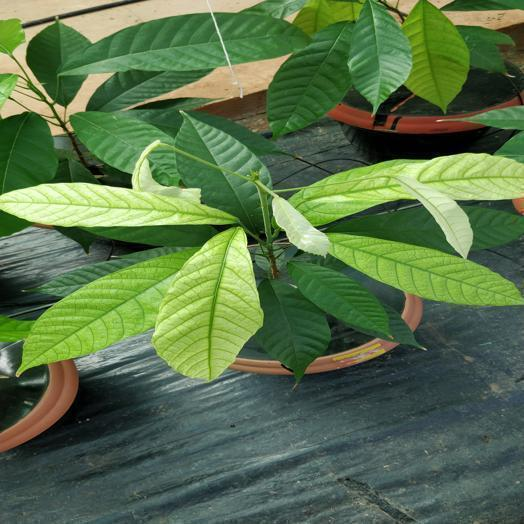Healthy Leaf: (57, 12, 316, 76), (175, 114, 271, 230), (264, 20, 352, 137), (401, 1, 471, 113), (288, 262, 392, 337), (27, 247, 185, 296), (256, 279, 330, 382), (352, 0, 413, 114), (70, 109, 163, 172), (83, 69, 213, 112), (332, 207, 455, 251), (27, 21, 89, 104), (0, 112, 57, 194), (457, 26, 510, 72), (456, 105, 523, 131), (384, 304, 417, 346), (242, 0, 305, 17), (0, 19, 24, 55), (0, 74, 15, 109)
Iron: (19, 249, 196, 371), (289, 153, 523, 225), (290, 153, 523, 225), (153, 228, 263, 379), (329, 233, 523, 304), (0, 183, 237, 226), (398, 176, 473, 258), (131, 140, 199, 202)
